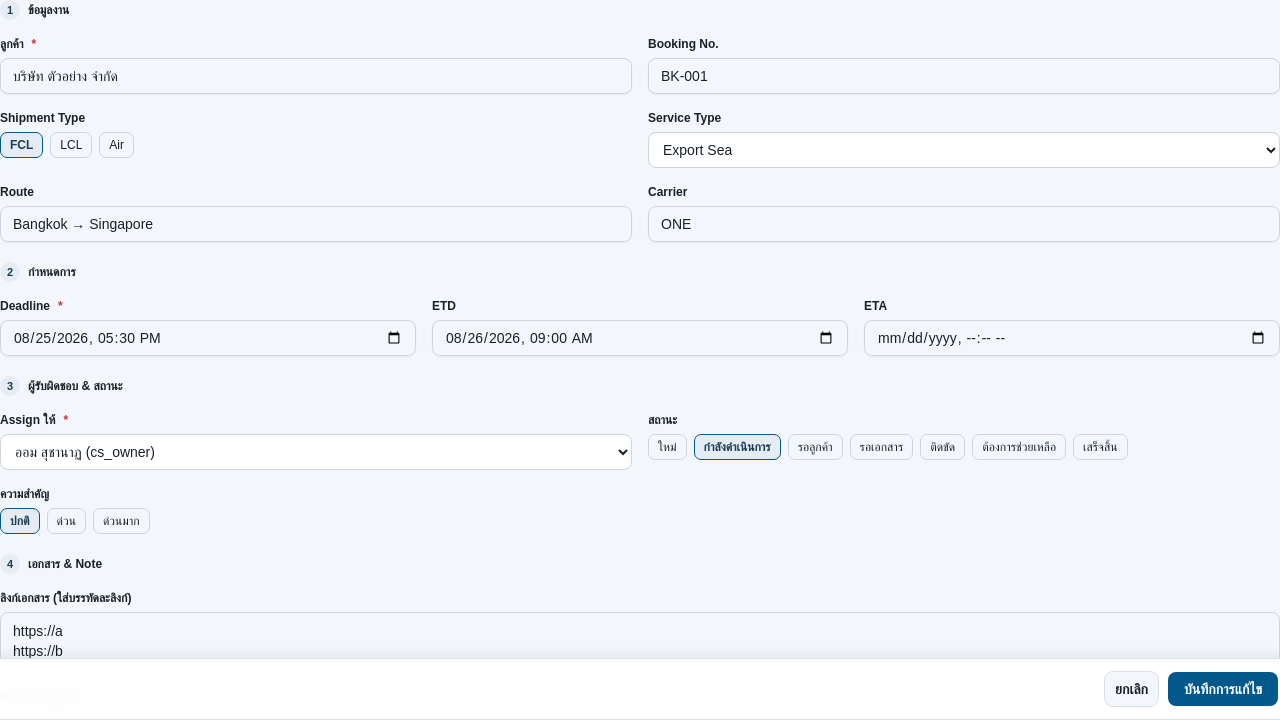
it: EditJobForm — submit › shows the error and stays put when editJob rejects
Click the button "บันทึกการแก้ไข": x=1223, y=689 x1=1167 y1=671 x2=1279 y2=707
(page scrolled)
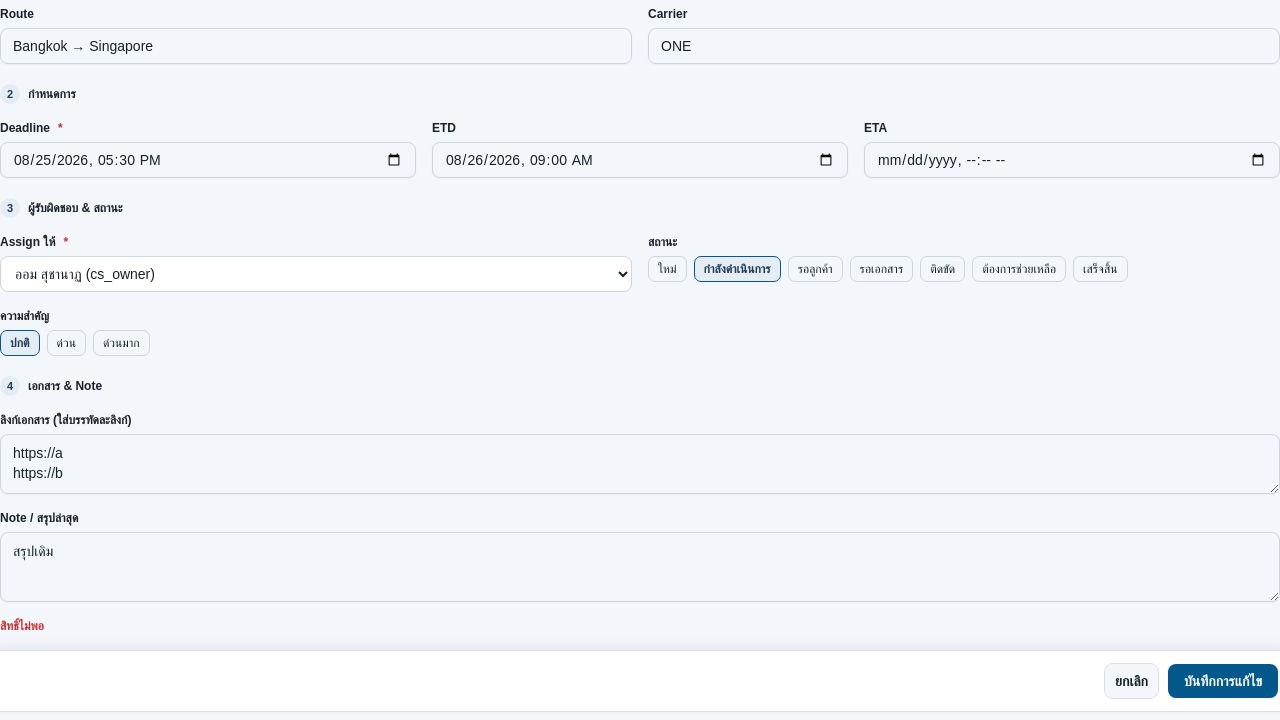
Check: the text "สิทธิ์ไม่พอ" is shown, box x1=0 y1=619 x2=44 y2=633
